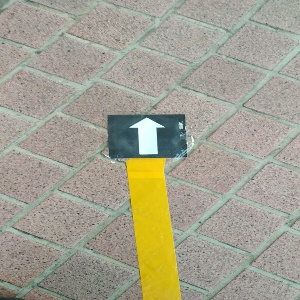straight: (109, 116, 187, 157)
